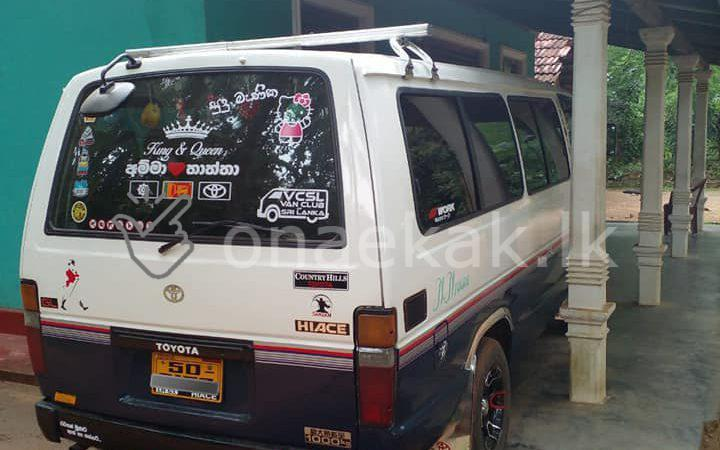van: (19, 50, 573, 450)
